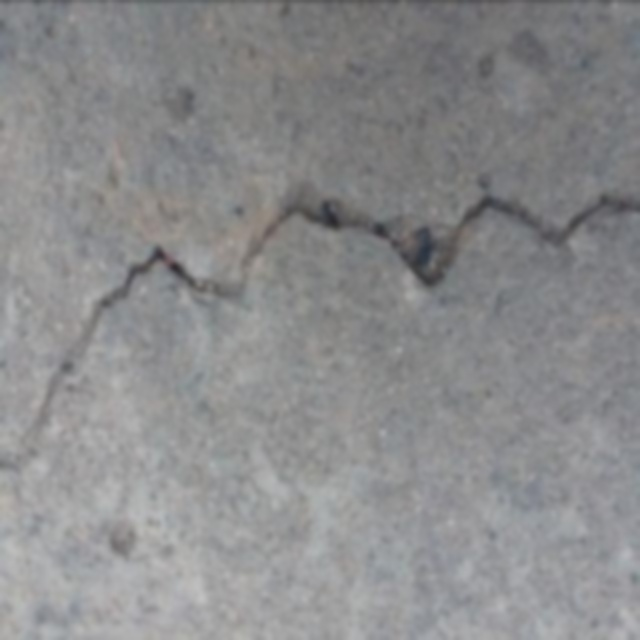SurfaceCrack: (0, 150, 636, 476)
